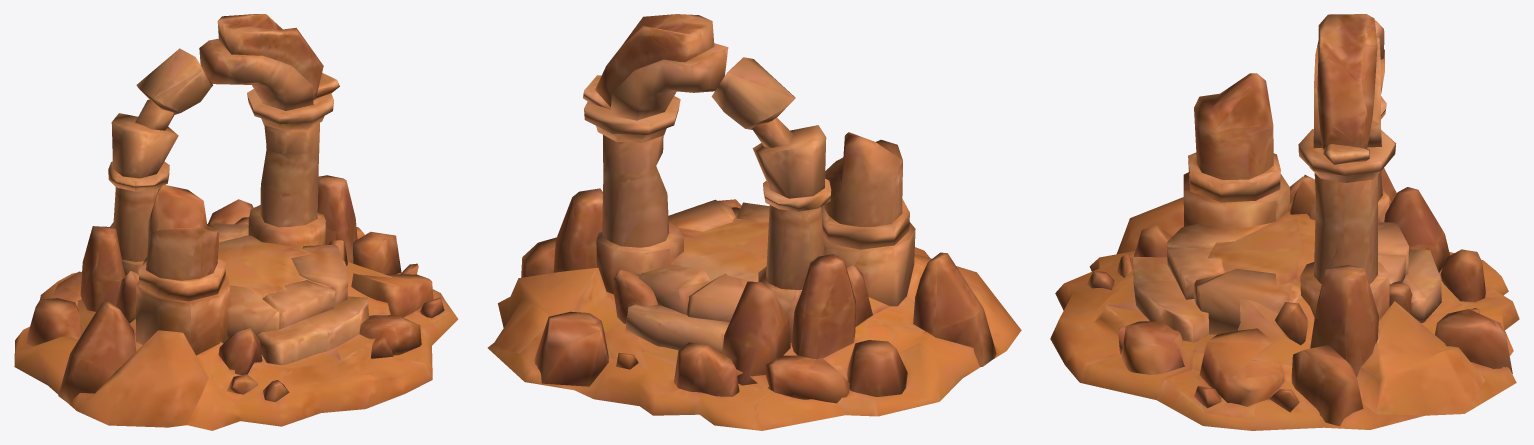
The model's file is desert_monument_1_low.glb.
3 renders of one model, left to right at view 1: azimuth 30°, elevation 25°; view 2: azimuth 150°, elevation 25°; view 3: azimuth 270°, elevation 25°, orthographic. The views are drawn at different scales.
Visible parts, largest first — view 1: Mesh_0.009; view 2: Mesh_0.009; view 3: Mesh_0.009.
Part boxes in pixels (box(x1,y1,x2,y2)): Mesh_0.009: box(14, 14, 458, 430); Mesh_0.009: box(487, 14, 1021, 430); Mesh_0.009: box(1050, 14, 1519, 430).
Size of the model in its own units: 1 by 0.7089 by 0.9316.
1 material, 1 textured.
